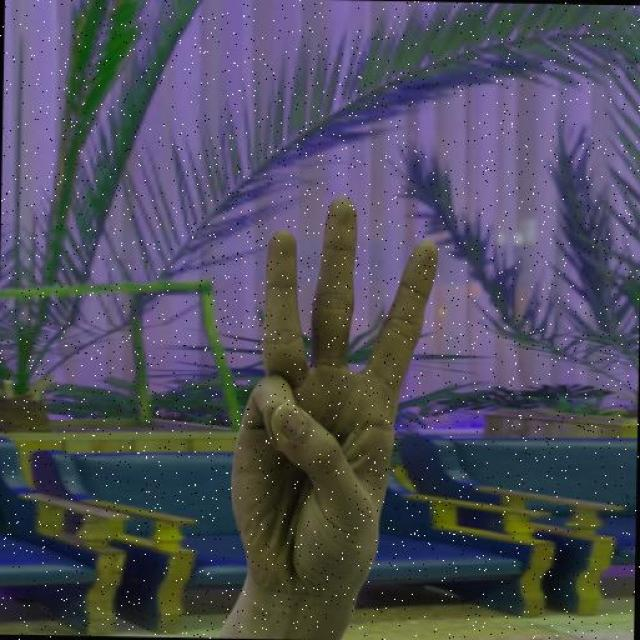W: (225, 191, 444, 620)
